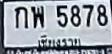5: (56, 4, 67, 27)
7: (82, 3, 93, 26)
8: (70, 4, 80, 26), (96, 3, 106, 25)
A01: (14, 5, 27, 28)
A30: (30, 5, 43, 27)
CRI: (34, 34, 83, 48)
